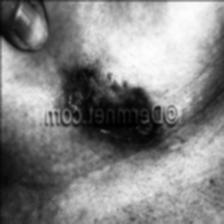Potentially Malignant Skin Tumors: (66, 78, 148, 138)
